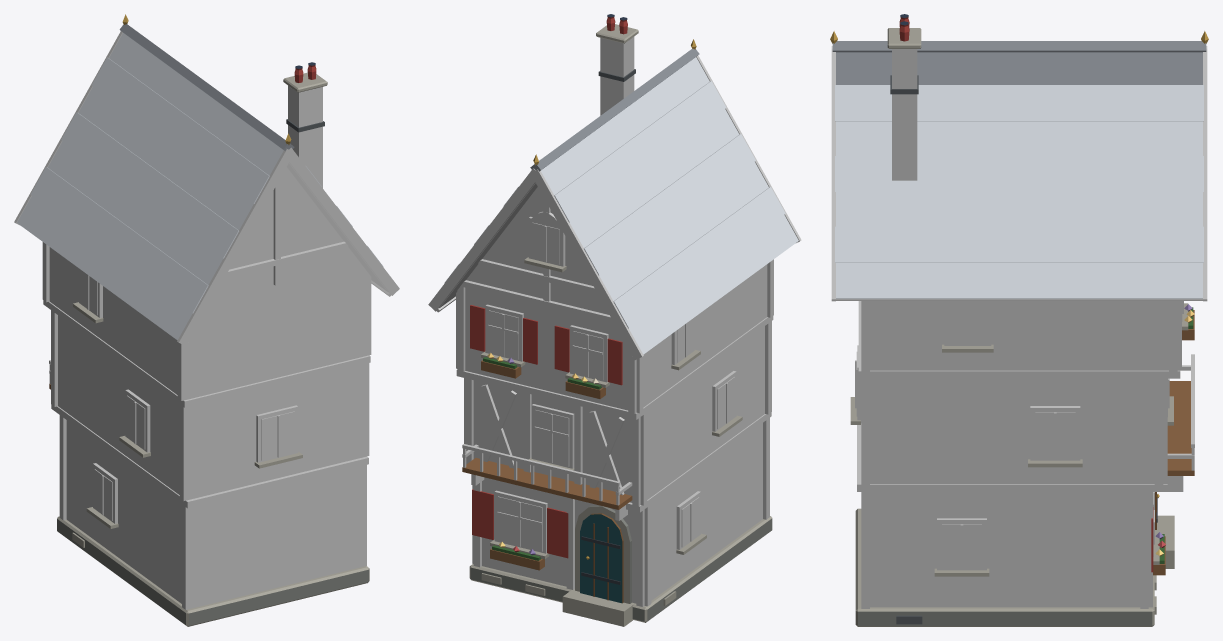
Rendered from TimberTownhouse.obj.
3 renders of one model, left to right at view 1: azimuth 30°, elevation 25°; view 2: azimuth 150°, elevation 25°; view 3: azimuth 270°, elevation 25°, orthographic. The views are drawn at different scales.
Size of the model in its own units: 10.12 by 22.42 by 13.18.
